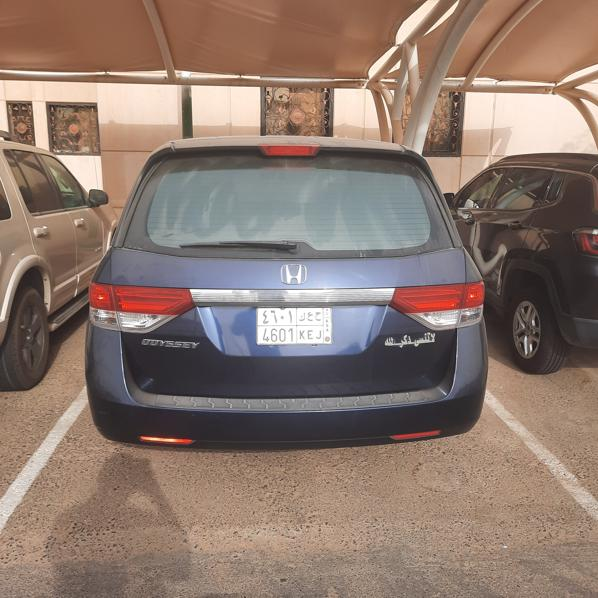numberplate: (257, 307, 331, 344)
